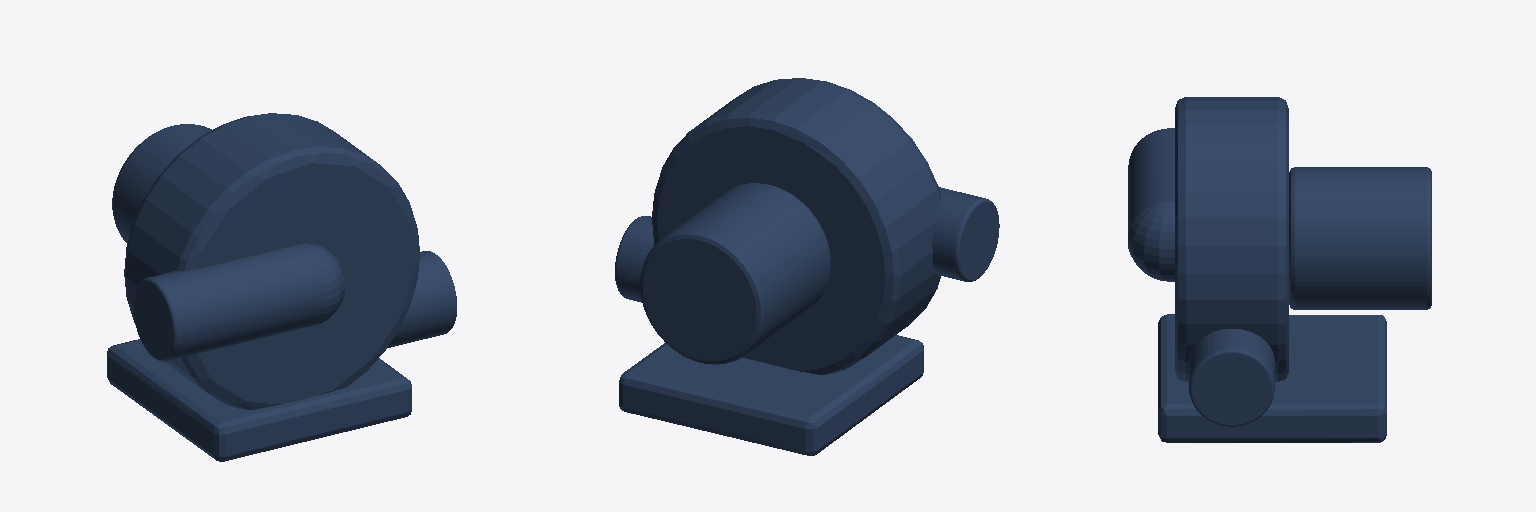
File: Pump.obj
3 renders of one model, left to right at view 1: azimuth 30°, elevation 25°; view 2: azimuth 150°, elevation 25°; view 3: azimuth 270°, elevation 25°, orthographic.
Visible parts, largest first — view 1: 003_Cylinder, 004_Box, 002_Cylinder_2, 005_Cylinder_3, 001_Cylinder_1, 000_Sphere; view 2: 003_Cylinder, 005_Cylinder_3, 004_Box, 002_Cylinder_2, 001_Cylinder_1; view 3: 003_Cylinder, 005_Cylinder_3, 004_Box, 001_Cylinder_1, 002_Cylinder_2, 000_Sphere.
Part boxes in pixels (x1,y1,x2,y2): 003_Cylinder: (124,113,419,409); 004_Box: (107,339,411,461); 002_Cylinder_2: (133,243,321,361); 005_Cylinder_3: (112,124,211,243); 001_Cylinder_1: (388,251,456,347); 000_Sphere: (308,244,344,326); 003_Cylinder: (652,78,940,374); 005_Cylinder_3: (640,183,830,364); 004_Box: (619,335,923,455); 002_Cylinder_2: (932,187,999,281); 001_Cylinder_1: (615,216,653,302); 003_Cylinder: (1175,97,1288,381); 005_Cylinder_3: (1289,167,1431,309); 004_Box: (1158,314,1386,442); 001_Cylinder_1: (1189,329,1274,426); 002_Cylinder_2: (1128,128,1174,232); 000_Sphere: (1128,203,1174,281).
Bounding box in the file's own units: 127 × 110 × 106.